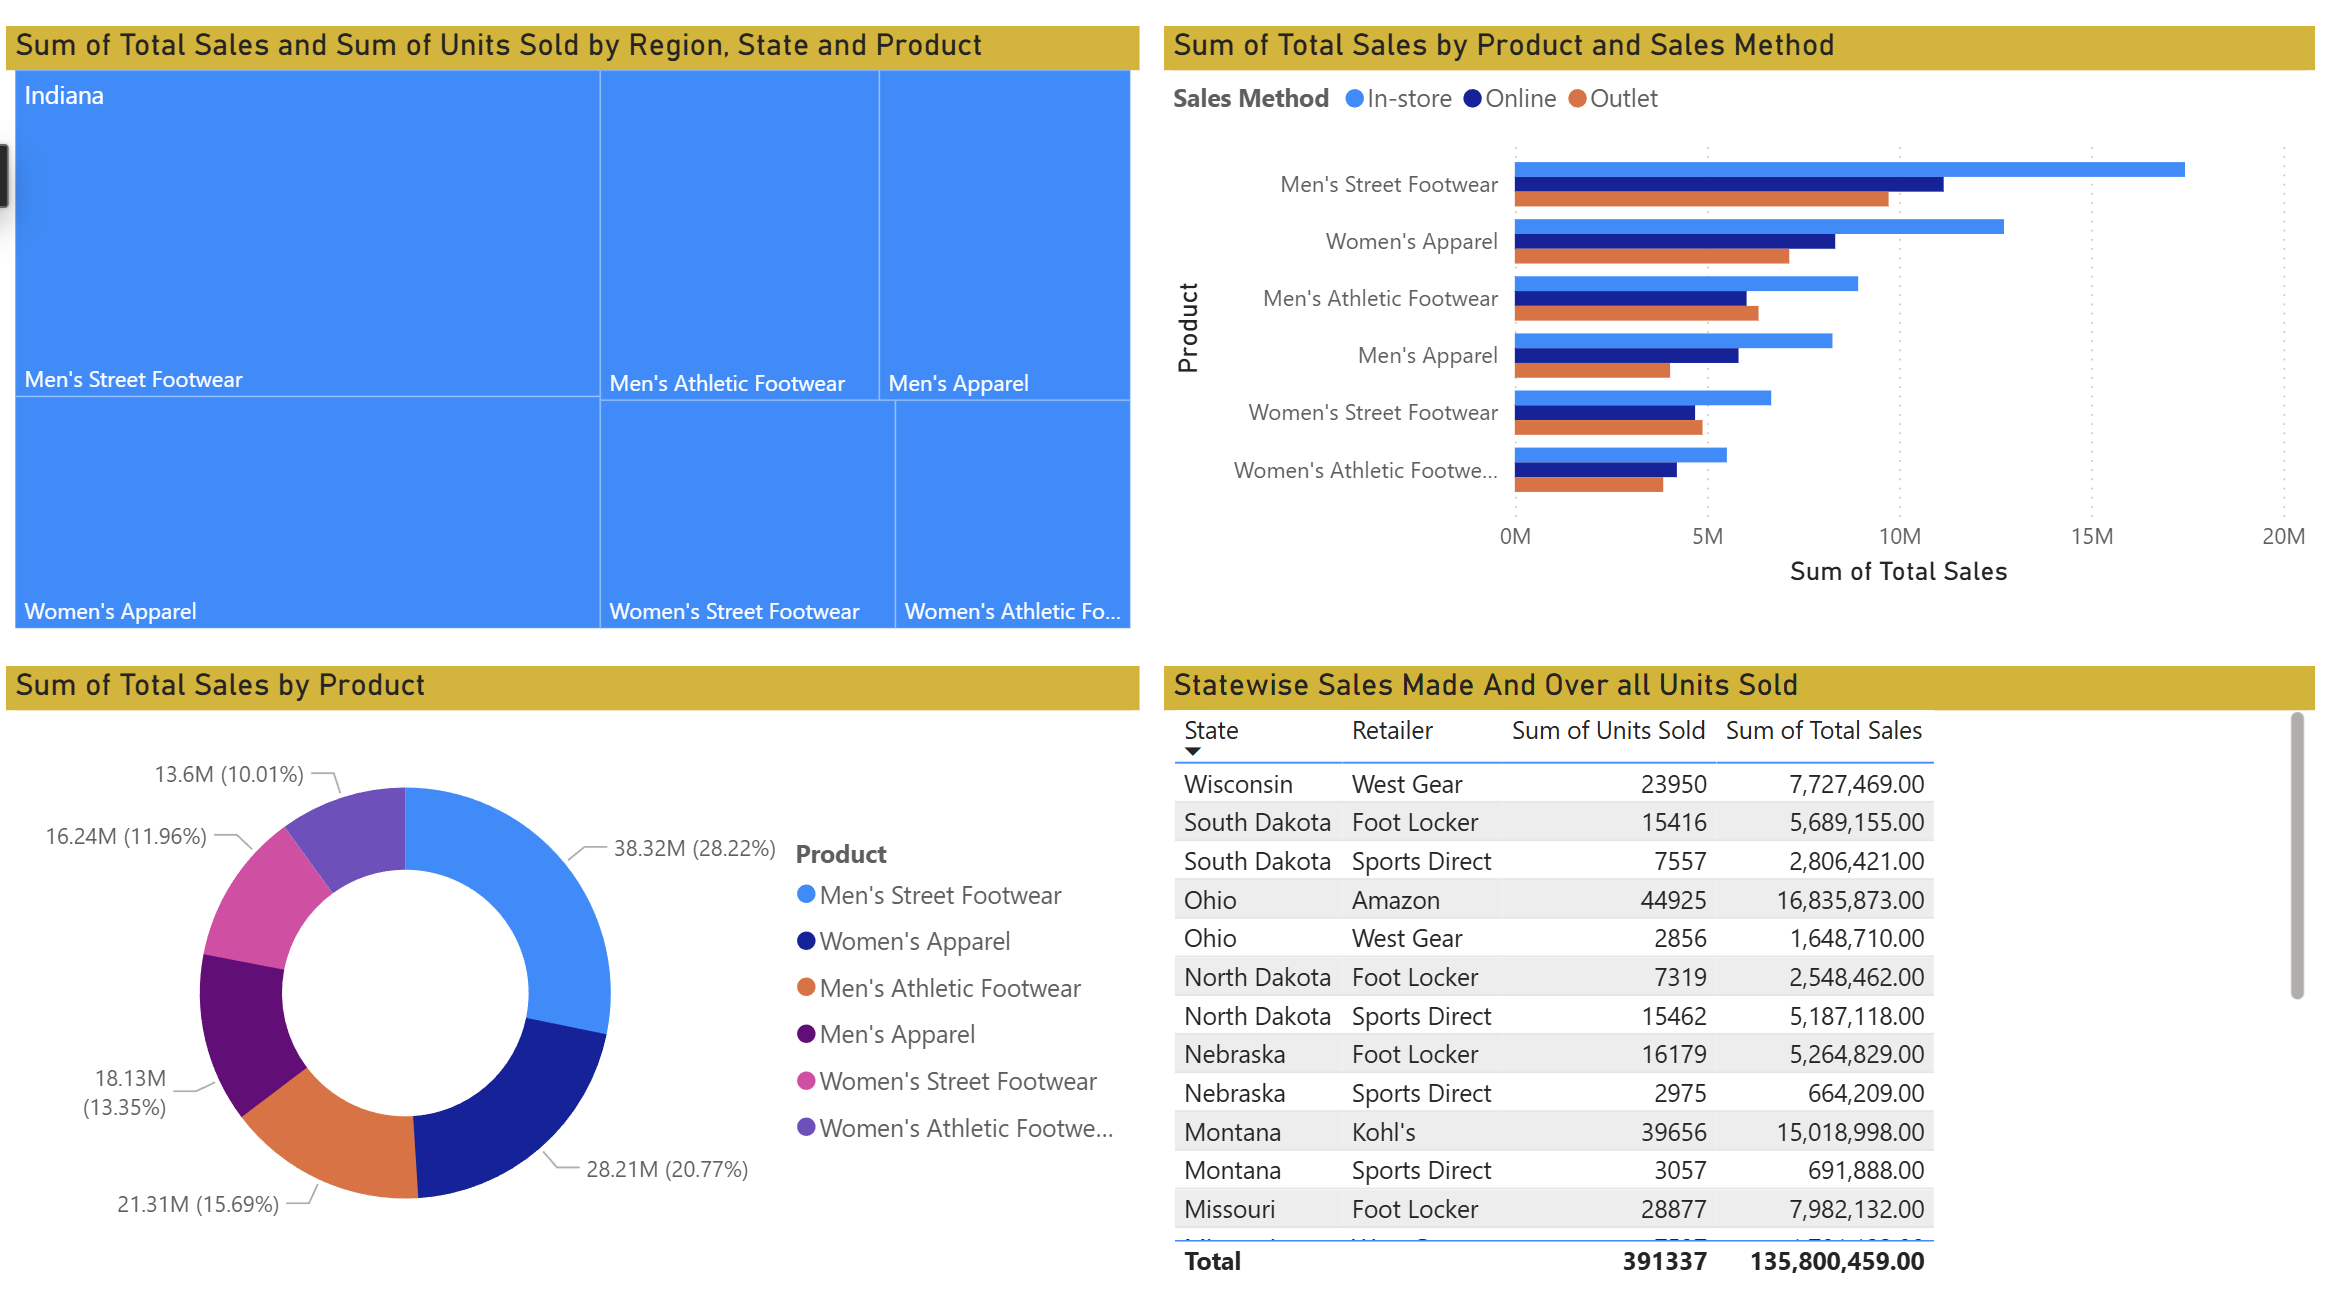

The dashboard page shown, as its layout file describes it:
{"tool":"powerbi","page":{"name":"Page 2","canvas":[1280,720],"ordinal":1},"visuals":[{"type":"treemap","fields":{"Values":["Sum(Data Sales Adidas.Total Sales)"],"Details":["Data Sales Adidas.Product"],"Group":["Data Sales Adidas.Region","Data Sales Adidas.State"]},"box":[11.9,27.7,615.6,332.2],"z":0},{"type":"clusteredBarChart","fields":{"Category":["Data Sales Adidas.Product"],"Y":["Sum(Data Sales Adidas.Total Sales)"],"Series":["Data Sales Adidas.Sales Method"]},"box":[640.7,27.7,624.8,308.5],"z":1},{"type":"donutChart","fields":{"Y":["Sum(Data Sales Adidas.Total Sales)"],"Category":["Data Sales Adidas.Product"]},"box":[11.9,374.4,615.6,336.1],"z":2},{"type":"tableEx","title":"Statewise Sales Made And Over all Units Sold","fields":{"Values":["Data Sales Adidas.State","Data Sales Adidas.Retailer","Sum(Data Sales Adidas.Units Sold)","Sum(Data Sales Adidas.Total Sales)"]},"box":[640.7,374.4,624.8,337.5],"z":3}]}

Visuals, with their boxes in screenshot pixels (x1, y1, x2, y2), scaled from the page's 1280x720 canvas onto the 2332x1302 screenshot:
treemap - Sum(Data Sales Adidas.Total Sales) x Data Sales Adidas.Product: region(22, 50, 1143, 651)
clusteredBarChart - Data Sales Adidas.Product x Sum(Data Sales Adidas.Total Sales): region(1167, 50, 2306, 608)
donutChart - Sum(Data Sales Adidas.Total Sales) x Data Sales Adidas.Product: region(22, 677, 1143, 1285)
"Statewise Sales Made And Over all Units Sold" tableEx: region(1167, 677, 2306, 1287)
